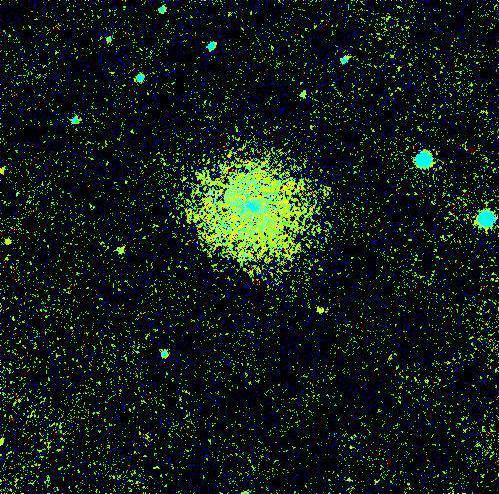star: (304, 298, 334, 328)
